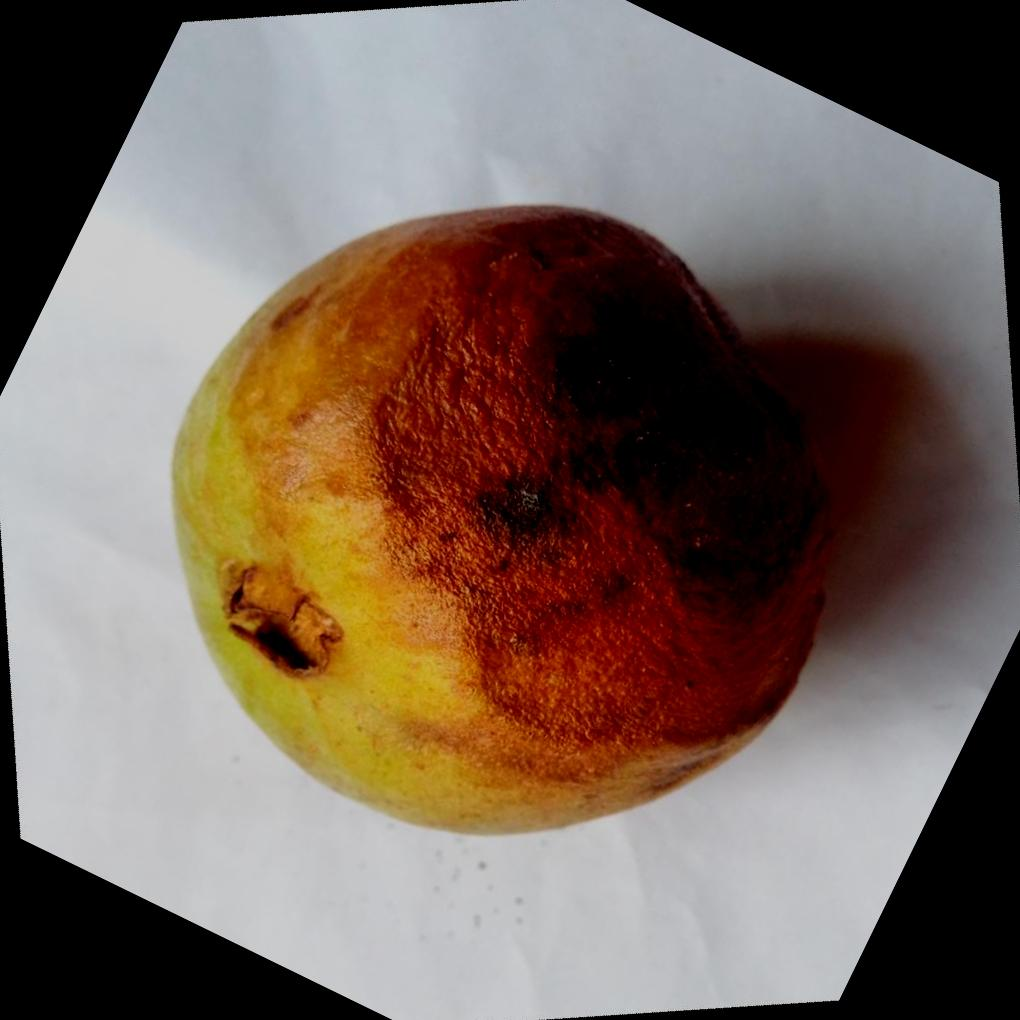FreshOrange: (168, 197, 837, 835)
